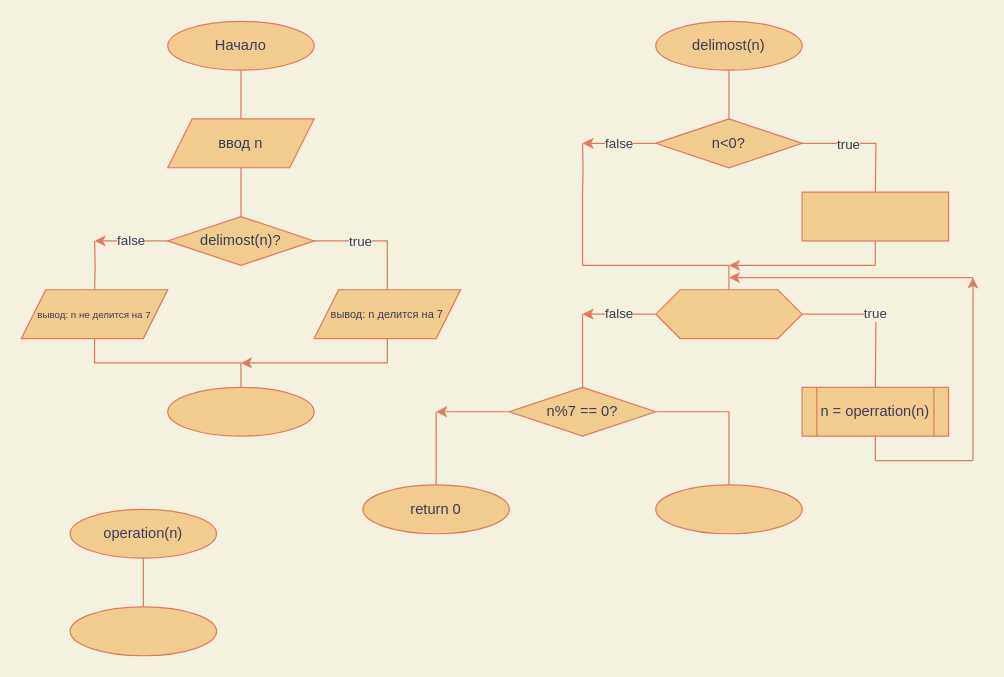
Some shapes in this 1004 by 677 pixel diagram are drawn without their labels. The shapes that lost their labels are listed below. From the top down, each one's box as (x1, y1, x2, y2) in pixels, then its label:
(801, 191, 949, 241): n = n * -1
(655, 289, 802, 339): Пока n>100
(167, 386, 314, 436): конец
(655, 484, 802, 534): return 1
(69, 606, 217, 656): return (n/10 - 2*(n%10))
